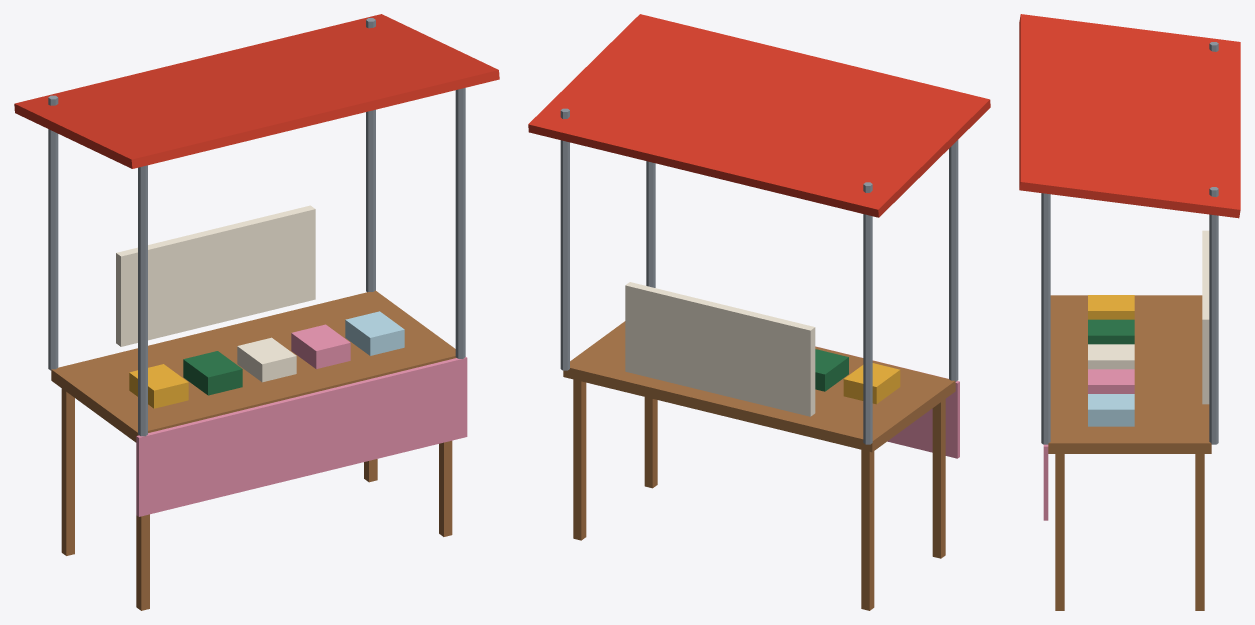
File: sap-phu-kien.glb
3 renders of one model, left to right at view 1: azimuth 30°, elevation 25°; view 2: azimuth 150°, elevation 25°; view 3: azimuth 270°, elevation 25°, orthographic. The views are drawn at different scales.
Parts seen in each view (by area): view 1: sap-phu-kien; view 2: sap-phu-kien; view 3: sap-phu-kien.
Part boxes in pixels (x1,y1,x2,y2): sap-phu-kien: (14,14,499,610); sap-phu-kien: (528,14,990,610); sap-phu-kien: (1019,14,1240,610).
Size of the model in its own units: 1.7 by 2.09 by 0.9463.
